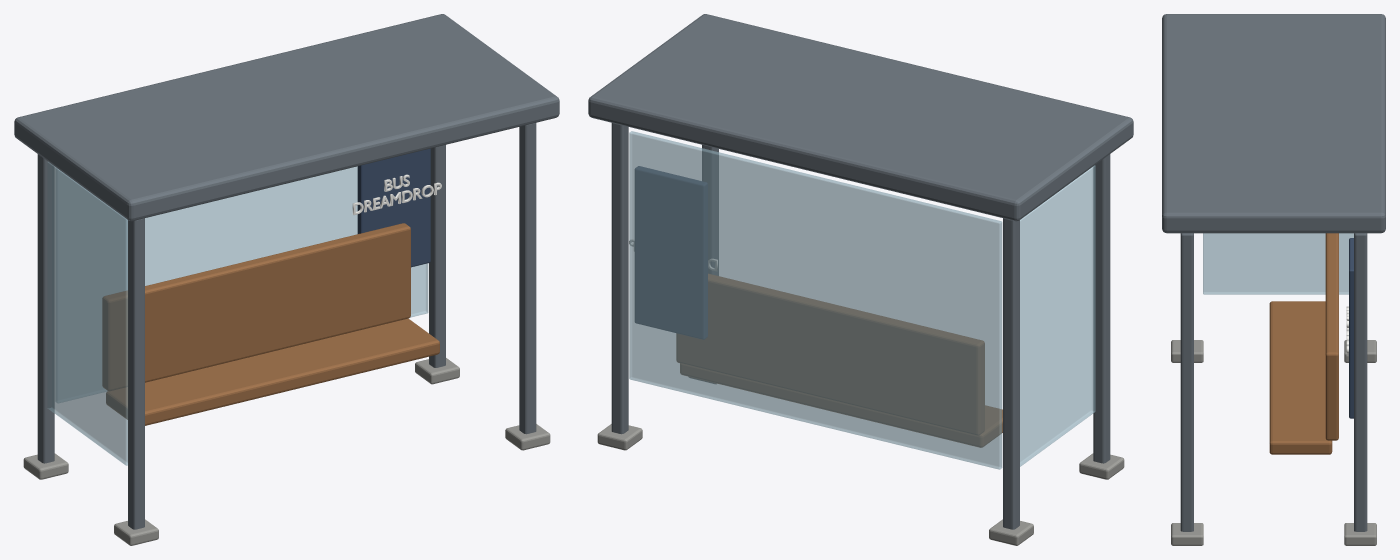
Rendered from prop_starline_bus_shelter_a_v01.glb.
3 views of the same model, side by side, from view 1: azimuth 30°, elevation 25°; view 2: azimuth 150°, elevation 25°; view 3: azimuth 270°, elevation 25° (orthographic). The views are drawn at different scales.
Parts seen in each view (by area): view 1: component__roof__roof, component__bench__bench_back, component__weather_panels__back_weather_panel, component__weather_panels__left_weather_panel, component__bench__bench_seat, component__structural_frame__structural_post.003, component__structural_frame__structural_post.002, component__route_panel__route_panel, component__structural_frame__structural_post.001, component__structural_frame__structural_post, component__route_panel__route_text, component__foundation_pads__foundation_pad.002 (+3 smaller); view 2: component__weather_panels__back_weather_panel, component__roof__roof, component__bench__bench_back, component__weather_panels__left_weather_panel, component__route_panel__route_panel, component__structural_frame__structural_post, component__structural_frame__structural_post.001, component__structural_frame__structural_post.002, component__bench__bench_seat, component__structural_frame__structural_post.003, component__foundation_pads__foundation_pad.001, component__foundation_pads__foundation_pad (+1 smaller); view 3: component__roof__roof, component__bench__bench_seat, component__weather_panels__left_weather_panel, component__structural_frame__structural_post, component__structural_frame__structural_post.003, component__bench__bench_back, component__route_panel__route_panel, component__foundation_pads__foundation_pad.003, component__foundation_pads__foundation_pad, component__foundation_pads__foundation_pad.001, component__foundation_pads__foundation_pad.002.
Boxes of the visible parts, x1=… form: component__roof__roof: x1=14, y1=14, x2=559, y2=221; component__bench__bench_back: x1=102, y1=223, x2=410, y2=390; component__weather_panels__back_weather_panel: x1=56, y1=166, x2=428, y2=402; component__weather_panels__left_weather_panel: x1=47, y1=162, x2=127, y2=465; component__bench__bench_seat: x1=106, y1=318, x2=439, y2=425; component__structural_frame__structural_post.003: x1=519, y1=123, x2=536, y2=434; component__structural_frame__structural_post.002: x1=37, y1=154, x2=54, y2=463; component__route_panel__route_panel: x1=357, y1=148, x2=430, y2=267; component__structural_frame__structural_post.001: x1=128, y1=218, x2=144, y2=529; component__structural_frame__structural_post: x1=429, y1=145, x2=445, y2=367; component__route_panel__route_text: x1=352, y1=174, x2=441, y2=214; component__foundation_pads__foundation_pad.002: x1=23, y1=453, x2=68, y2=479; component__weather_panels__back_weather_panel: x1=629, y1=131, x2=1002, y2=469; component__roof__roof: x1=588, y1=14, x2=1133, y2=221; component__bench__bench_back: x1=676, y1=274, x2=984, y2=435; component__weather_panels__left_weather_panel: x1=1020, y1=165, x2=1095, y2=466; component__route_panel__route_panel: x1=635, y1=166, x2=707, y2=339; component__structural_frame__structural_post: x1=611, y1=123, x2=628, y2=434; component__structural_frame__structural_post.001: x1=1093, y1=154, x2=1110, y2=463; component__structural_frame__structural_post.002: x1=1003, y1=218, x2=1019, y2=529; component__bench__bench_seat: x1=680, y1=363, x2=1002, y2=447; component__structural_frame__structural_post.003: x1=702, y1=145, x2=718, y2=275; component__foundation_pads__foundation_pad.001: x1=1079, y1=453, x2=1124, y2=479; component__foundation_pads__foundation_pad: x1=597, y1=424, x2=642, y2=450; component__roof__roof: x1=1162, y1=14, x2=1385, y2=233; component__bench__bench_seat: x1=1269, y1=301, x2=1332, y2=454; component__weather_panels__left_weather_panel: x1=1203, y1=233, x2=1353, y2=294; component__structural_frame__structural_post: x1=1354, y1=233, x2=1367, y2=531; component__structural_frame__structural_post.003: x1=1180, y1=233, x2=1193, y2=531; component__bench__bench_back: x1=1325, y1=233, x2=1338, y2=440; component__route_panel__route_panel: x1=1349, y1=238, x2=1353, y2=418; component__foundation_pads__foundation_pad.003: x1=1171, y1=523, x2=1203, y2=545; component__foundation_pads__foundation_pad: x1=1344, y1=523, x2=1376, y2=545; component__foundation_pads__foundation_pad.001: x1=1171, y1=340, x2=1203, y2=362; component__foundation_pads__foundation_pad.002: x1=1344, y1=340, x2=1376, y2=362.
Size of the model in its own units: 3.2 by 2.48 by 1.5.
